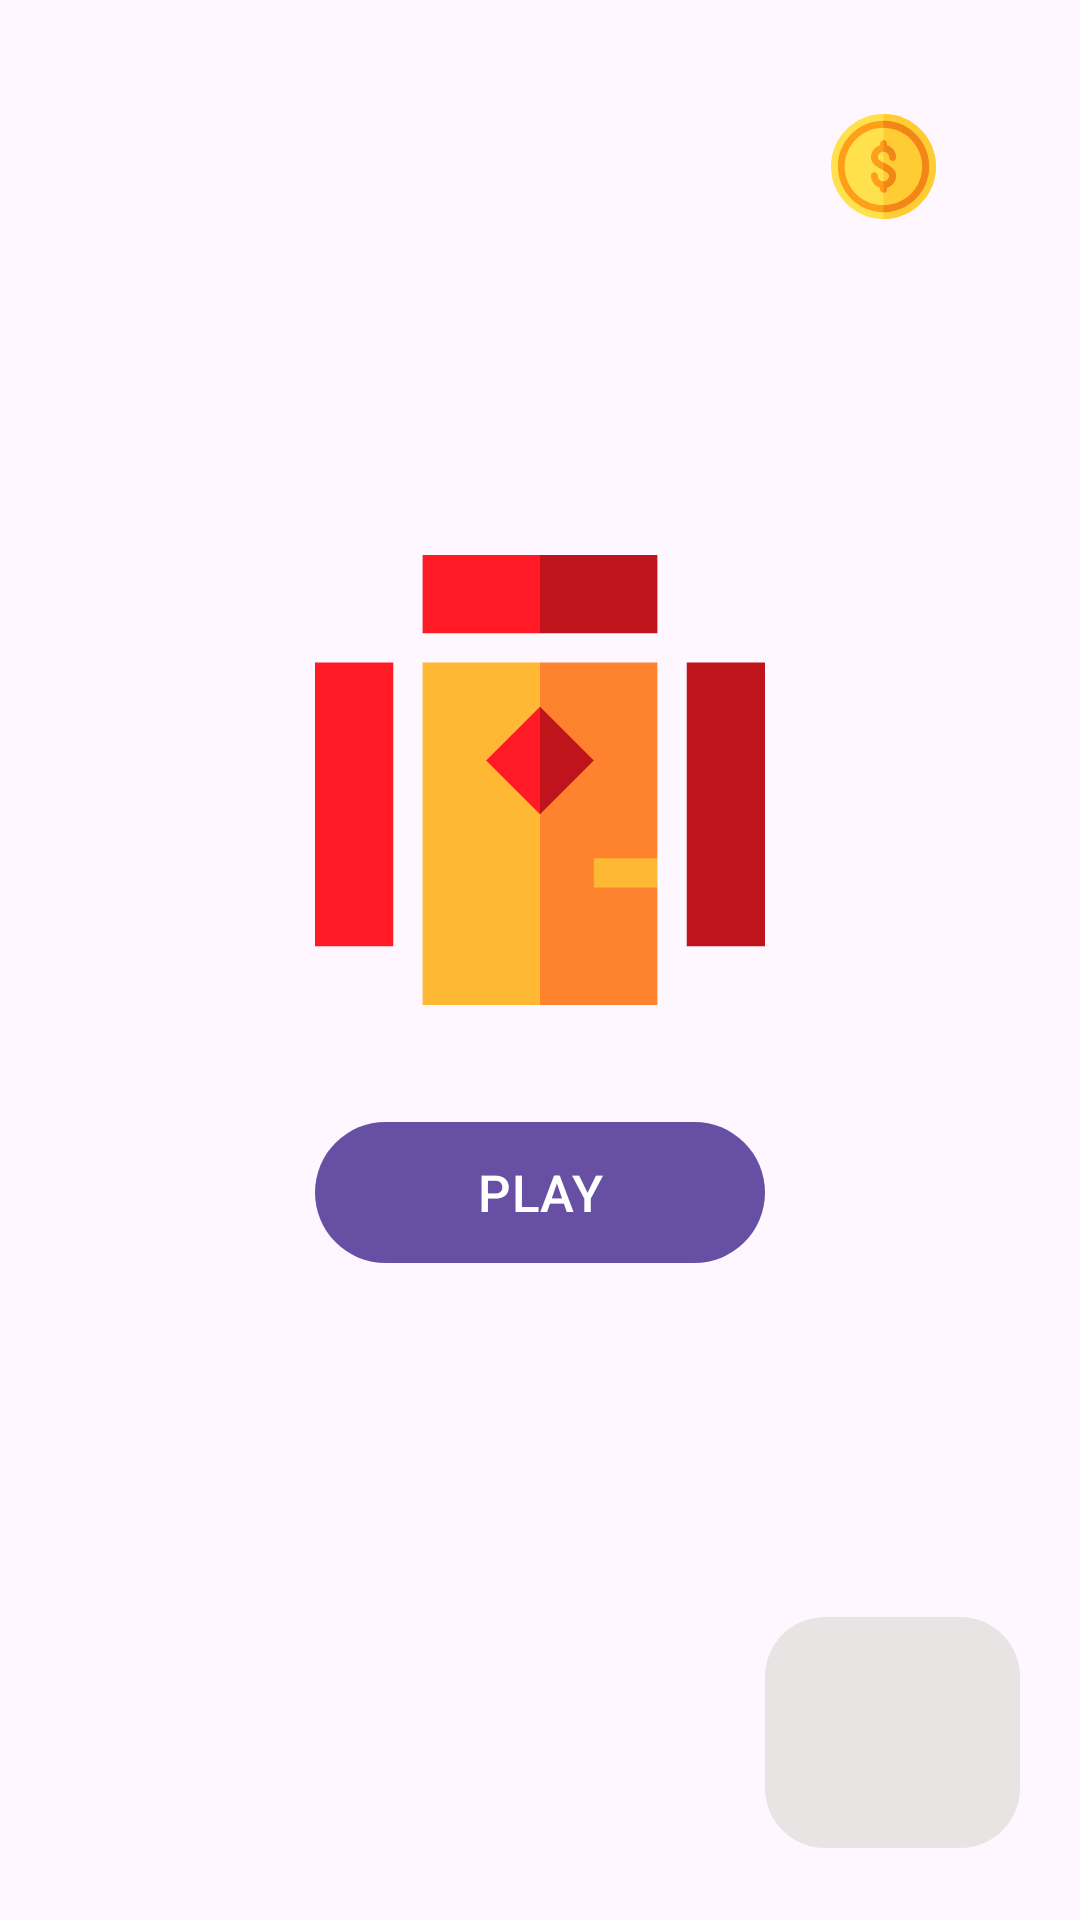

Icon bounding boxes for this 1080w x 1920h phone screenshot, format box(x1, y1, x2, y2):
coin: box(831, 114, 936, 219)
